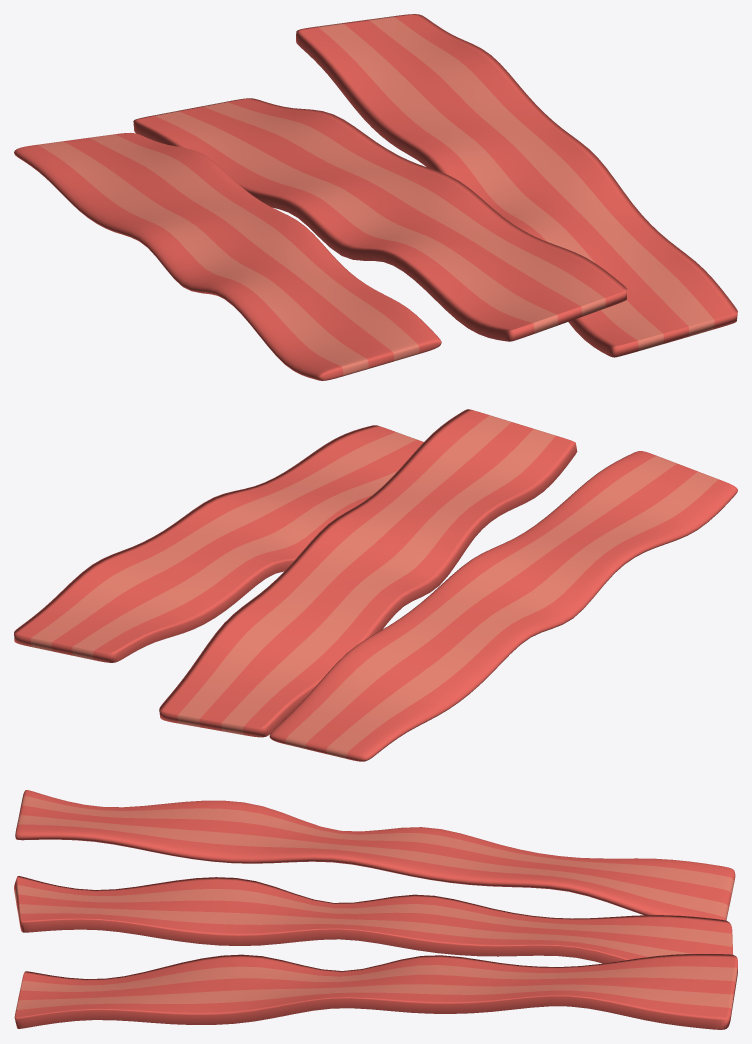
File: bacon.gltf
The picture shows the model from 3 angles, top to bottom: view 1: azimuth 30°, elevation 25°; view 2: azimuth 150°, elevation 25°; view 3: azimuth 270°, elevation 25°; orthographic projection. The views are drawn at different scales.
Visible parts, largest first — view 1: Plane.004, Plane.003, Plane.002; view 2: Plane.003, Plane.002, Plane.004; view 3: Plane.004, Plane.003, Plane.002.
Part boxes in pixels (x1,y1,x2,y2): Plane.004: (296,14,737,357); Plane.003: (133,98,627,341); Plane.002: (14,132,441,380); Plane.003: (159,409,577,737); Plane.002: (269,451,737,761); Plane.004: (14,425,423,662); Plane.004: (14,954,737,1029); Plane.003: (14,876,733,963); Plane.002: (15,790,735,920).
Bounding box in the file's own units: 1.44 × 0.2503 × 2.02.
